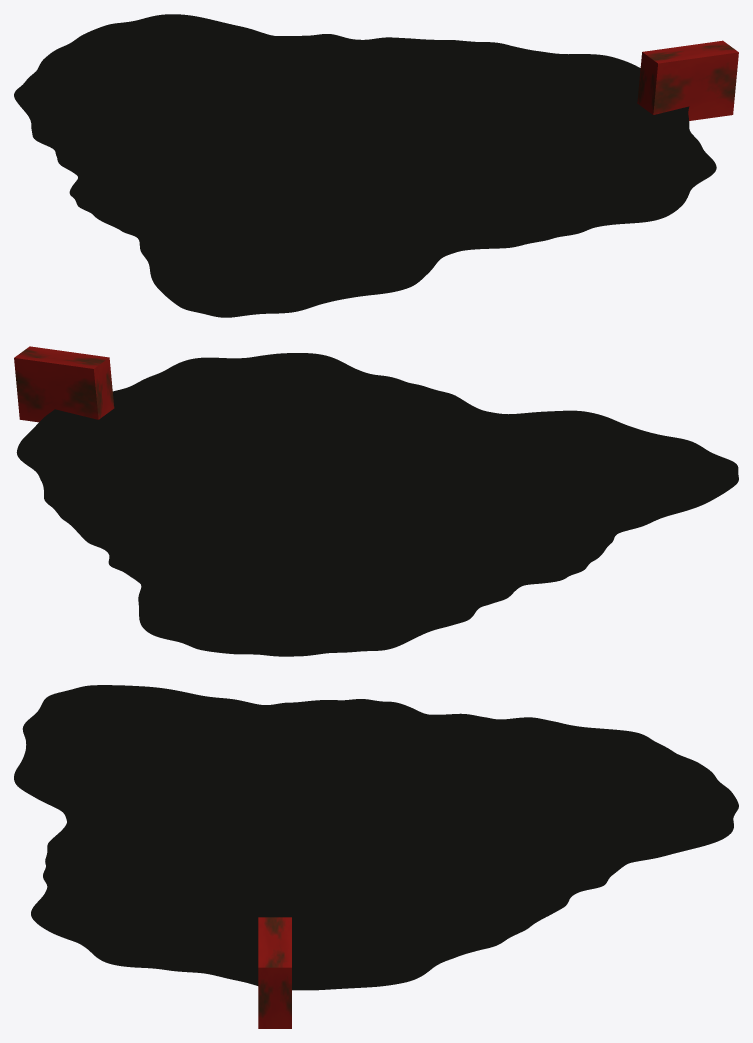
Rendered from puddle_L3.glb.
3 renders of one model, top to bottom at view 1: azimuth 30°, elevation 25°; view 2: azimuth 150°, elevation 25°; view 3: azimuth 270°, elevation 25°, orthographic. The views are drawn at different scales.
Visible parts, largest first — view 1: puddle, jerrycan; view 2: puddle, jerrycan; view 3: puddle, jerrycan.
Part boxes in pixels (x1=…): puddle: x1=14, y1=14, x2=716, y2=317; jerrycan: x1=637, y1=40, x2=738, y2=120; puddle: x1=16, y1=353, x2=738, y2=656; jerrycan: x1=14, y1=346, x2=114, y2=422; puddle: x1=14, y1=685, x2=738, y2=990; jerrycan: x1=258, y1=917, x2=291, y2=1028.
Size of the model in its own units: 3.69 by 0.3852 by 3.46.
Materials: 2 (1 with a texture image).
